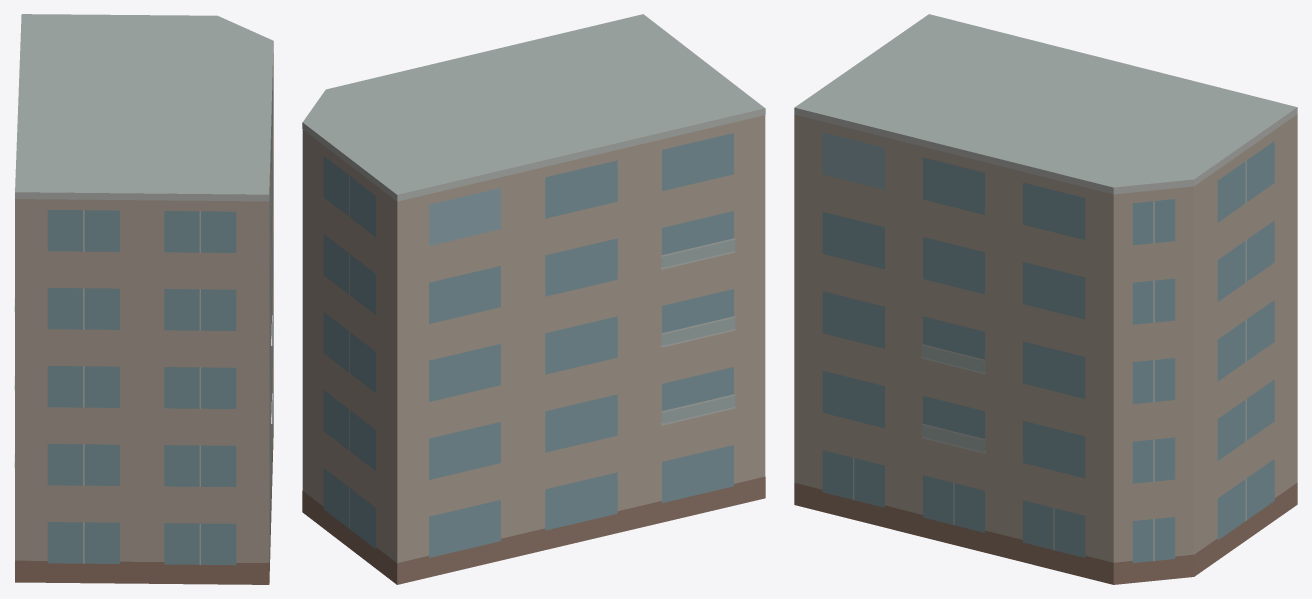
The model's file is survey-upis-32940525.glb.
The picture shows the model from 3 angles, left to right: view 1: azimuth 30°, elevation 25°; view 2: azimuth 150°, elevation 25°; view 3: azimuth 270°, elevation 25°; orthographic projection.
Visible parts, largest first — view 1: survey-upis-32940525.tmp; view 2: survey-upis-32940525.tmp; view 3: survey-upis-32940525.tmp.
Boxes of the visible parts, x1=… form: survey-upis-32940525.tmp: x1=14, y1=14, x2=273, y2=584; survey-upis-32940525.tmp: x1=302, y1=14, x2=765, y2=584; survey-upis-32940525.tmp: x1=794, y1=14, x2=1297, y2=584.
Size of the model in its own units: 13.22 by 14.1 by 16.19.
